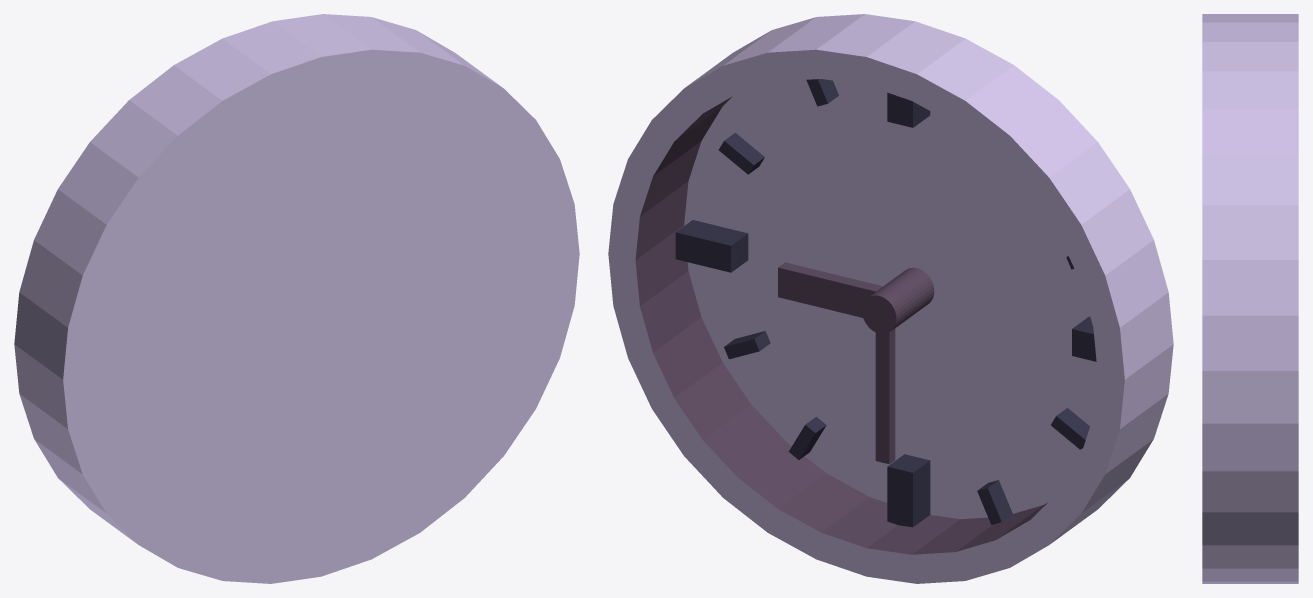
Rendered from clock.fbx.
3 views of the same model, side by side, from view 1: azimuth 30°, elevation 25°; view 2: azimuth 150°, elevation 25°; view 3: azimuth 270°, elevation 25° (orthographic).
Visible parts, largest first — view 1: Cylinder.013; view 2: Cylinder.013, Cube.009, Cube.014, Cylinder.014, Cube.015; view 3: Cylinder.013.
Boxes of the visible parts, x1,y1,x2,y2 form: Cylinder.013: (14, 14, 579, 583); Cylinder.013: (608, 14, 1173, 583); Cube.009: (675, 79, 1096, 527); Cube.014: (778, 262, 882, 317); Cylinder.014: (862, 267, 934, 333); Cube.015: (875, 328, 895, 464); Cylinder.013: (1202, 14, 1298, 583).
Size of the model in its own units: 1509 by 1451 by 247.
